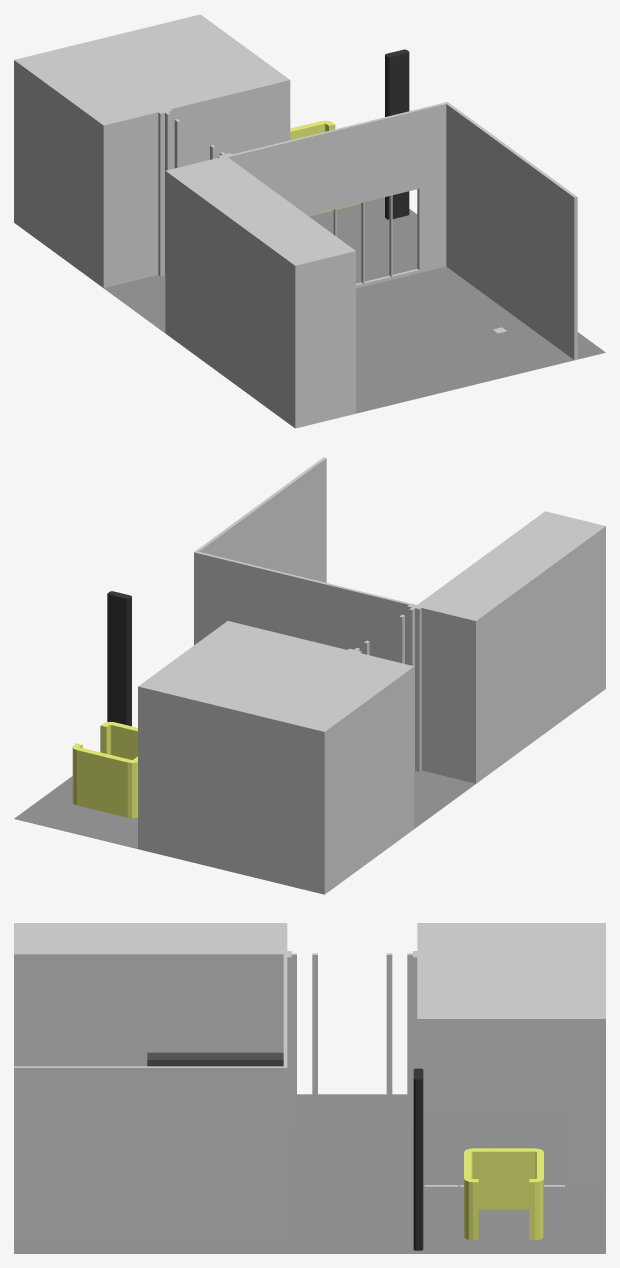
Rendered from hallway.dae.
3 views of the same model, one above another, from view 1: azimuth 30°, elevation 25°; view 2: azimuth 150°, elevation 25°; view 3: azimuth 270°, elevation 25° (orthographic). The views are drawn at different scales.
Visible parts, largest first — view 1: fontys_hallway; view 2: fontys_hallway; view 3: fontys_hallway.
Part boxes in pixels (<box>): fontys_hallway: <box>14,14,605,428</box>; fontys_hallway: <box>14,457,605,894</box>; fontys_hallway: <box>14,923,605,1253</box>.
Size of the model in its own units: 10 by 15.68 by 5.01.
